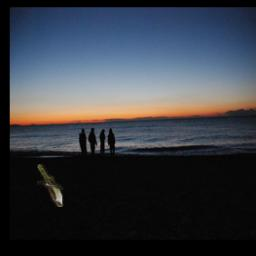Cuckoo: (38, 165, 64, 208)
